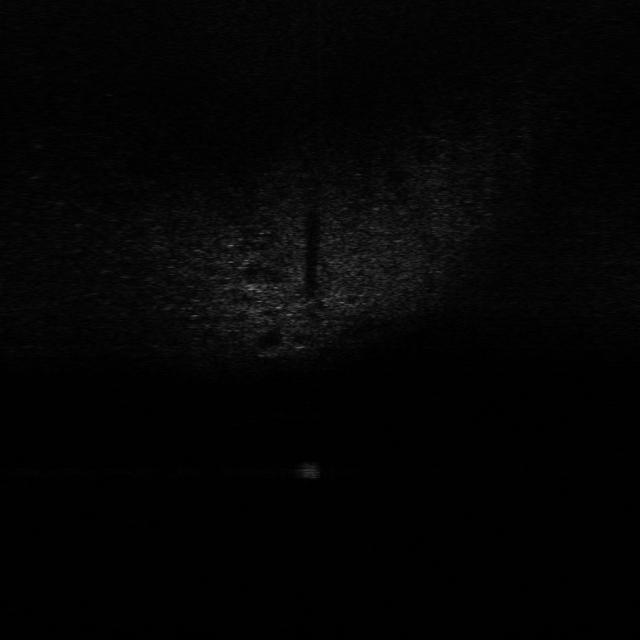cylinder: (300, 458, 324, 482)
